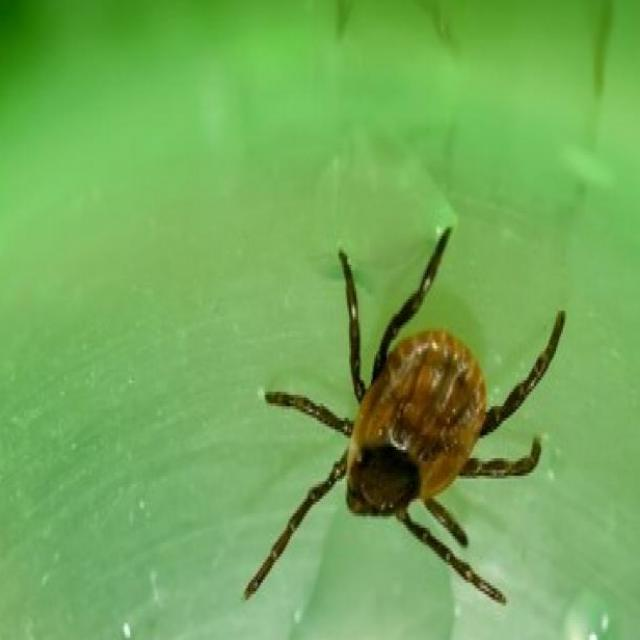Rhipicephalus Sanguineus-F: (243, 227, 565, 606)
